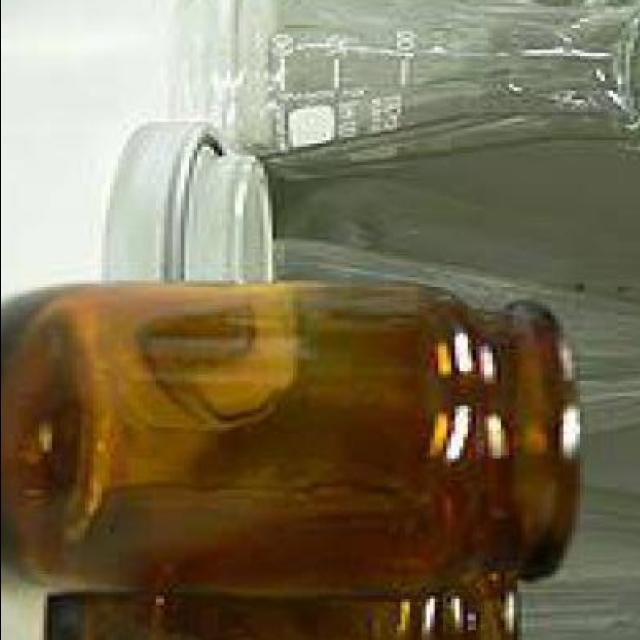kaca: (0, 284, 583, 599), (188, 0, 640, 175), (276, 239, 640, 442), (284, 182, 640, 306), (42, 595, 524, 640), (520, 482, 640, 640)
